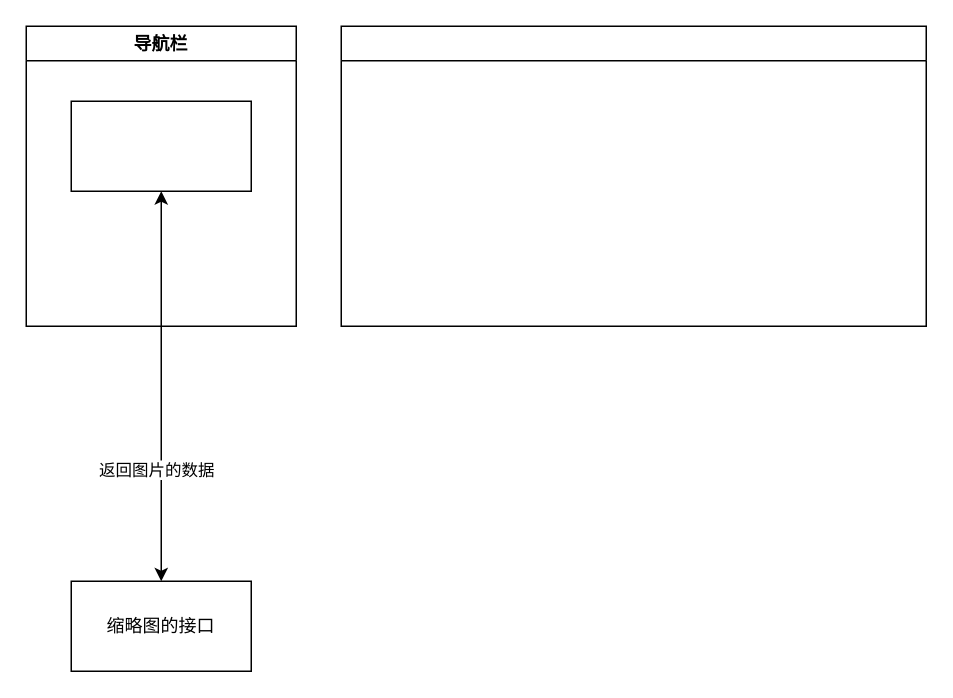
Some shapes in this 953 by 698 pixel diagram are drawn without their labels. The shapes that lost their labels are listed below. From the top down, each one's centre as x and y in pixels, then its label:
At (160,145): "缩略图".
At (633,175): "内容部分".
